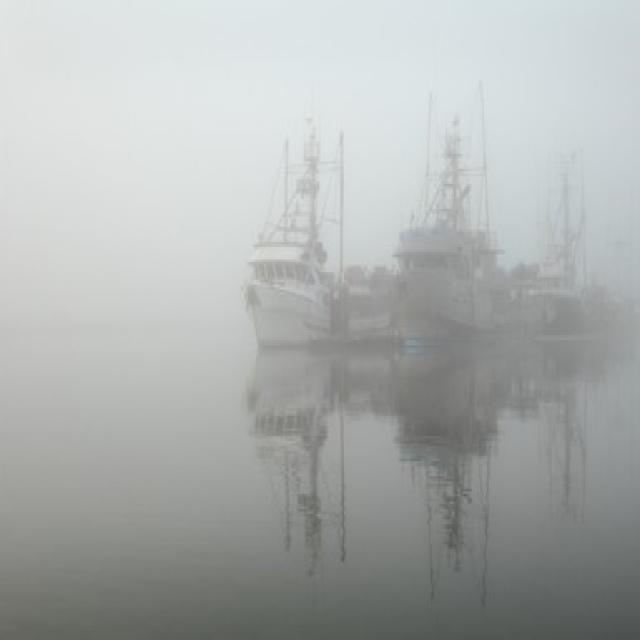fishing boat: (242, 111, 398, 343), (398, 109, 546, 348), (532, 128, 640, 342)
